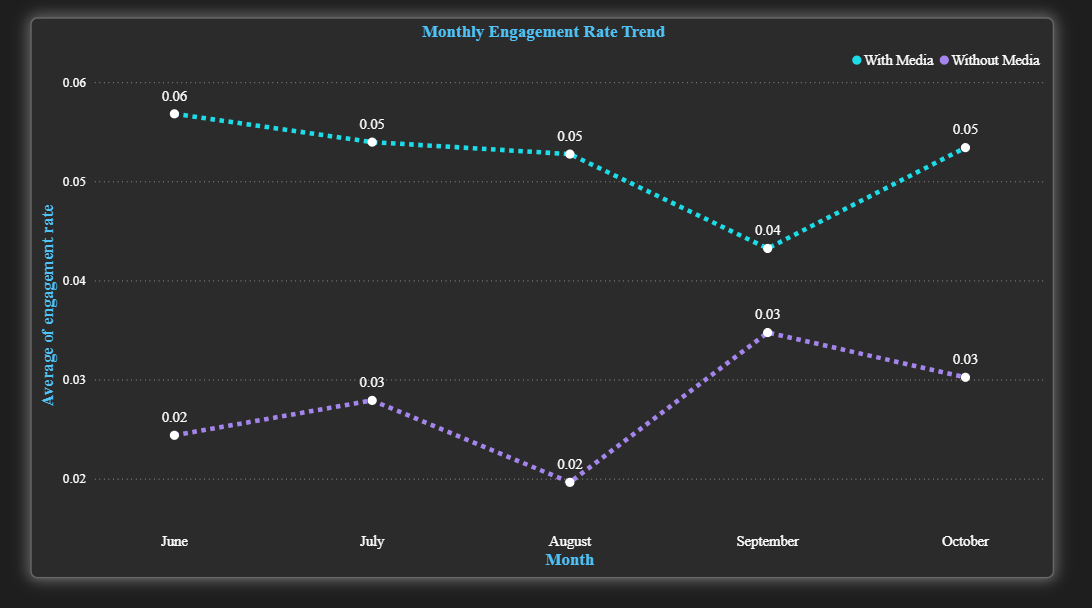

The dashboard page shown, as its layout file describes it:
{"tool":"powerbi","page":{"name":"Task 5","canvas":[1280,720],"ordinal":4},"visuals":[{"type":"lineChart","title":"Monthly Engagement Rate Trend","fields":{"Category":["SocialMedia (1).Clean Date.Variation.Date Hierarchy.Month"],"Y":["Avg(SocialMedia (1).engagement rate)"],"Series":["SocialMedia (1).Media Type"]},"box":[78.2,50.8,1123.8,616.1],"z":0}]}

Visuals, with their boxes in screenshot pixels (x1, y1, x2, y2), scaled from the page's 1280x720 canvas onto the 1092x608 screenshot:
"Monthly Engagement Rate Trend" lineChart: 67/43/1025/563
